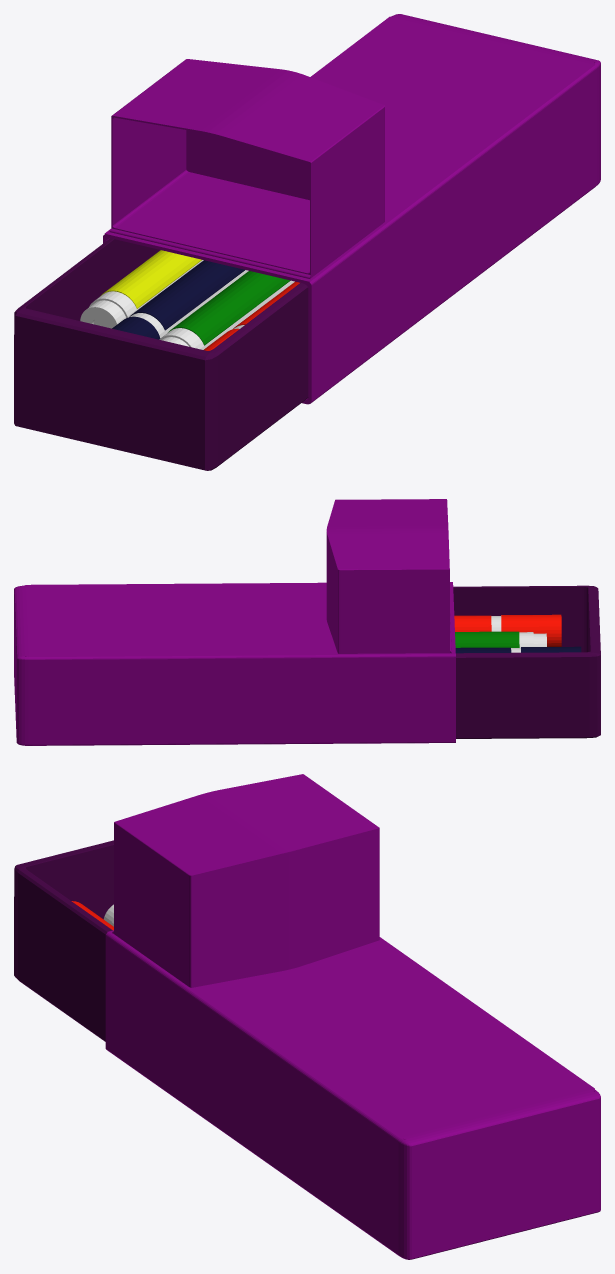
Rendered from MarkerBox.fbx.
3 views of the same model, one above another, from view 1: azimuth 30°, elevation 25°; view 2: azimuth 150°, elevation 25°; view 3: azimuth 270°, elevation 25° (orthographic). The views are drawn at different scales.
Parts seen in each view (by area): view 1: PencilBox Outside, PencilBox Inside, Markers; view 2: PencilBox Outside, PencilBox Inside, Markers; view 3: PencilBox Outside, PencilBox Inside.
Boxes of the visible parts, x1,y1,x2,y2 form: PencilBox Outside: (103, 14, 600, 404); PencilBox Inside: (14, 238, 308, 470); Markers: (80, 250, 299, 350); PencilBox Outside: (14, 499, 455, 745); PencilBox Inside: (453, 585, 600, 738); Markers: (454, 614, 581, 653); PencilBox Outside: (105, 774, 600, 1259); PencilBox Inside: (14, 840, 113, 1041).
Size of the model in its own units: 266 by 89.41 by 201.
